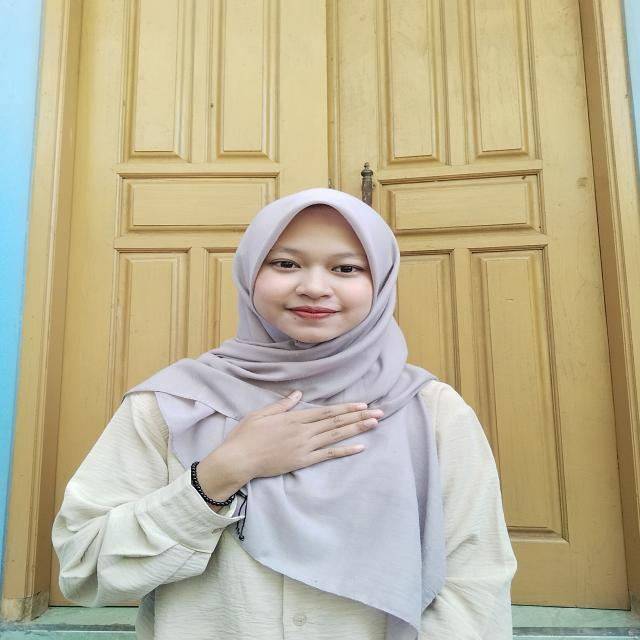tolong: (138, 384, 386, 542)
